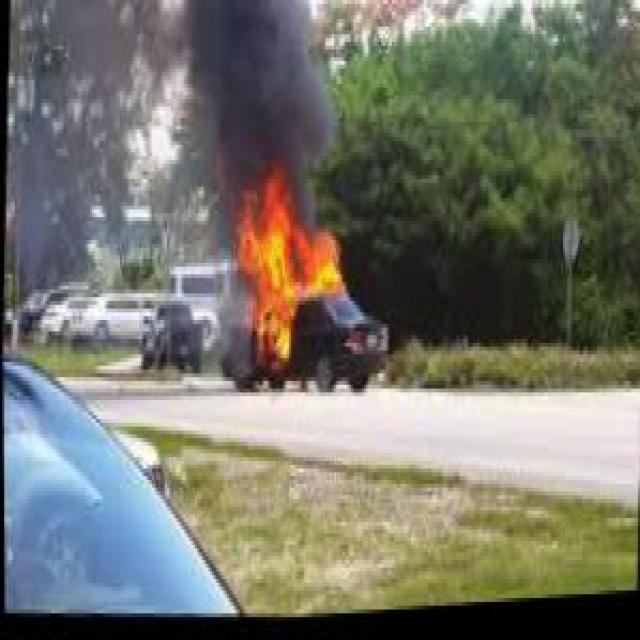Fire: (225, 160, 352, 373)
Smoke: (2, 0, 176, 320), (171, 0, 345, 186)
